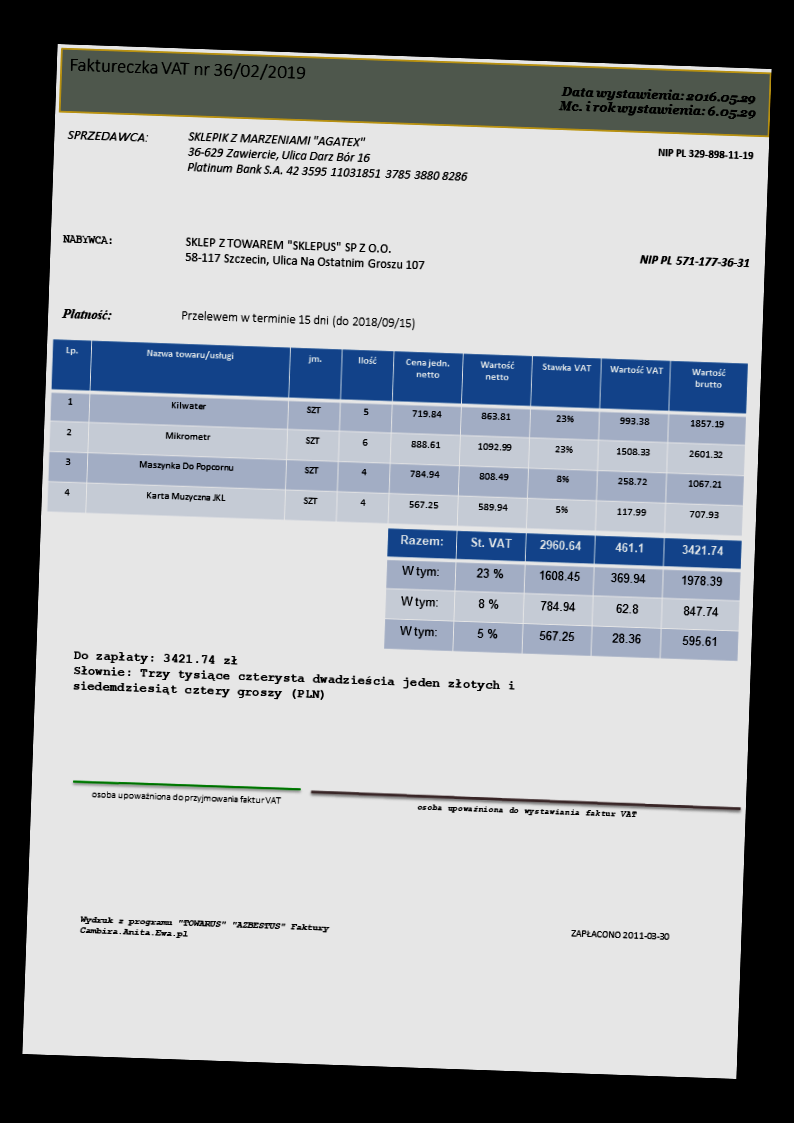Table: (45, 338, 748, 538), (383, 527, 742, 663)
TextBox: (69, 647, 520, 710), (183, 127, 471, 189), (181, 234, 427, 274), (555, 81, 759, 124), (76, 914, 334, 947), (65, 52, 308, 83), (178, 308, 417, 332), (414, 800, 639, 821), (88, 788, 283, 807), (654, 143, 754, 165), (637, 252, 751, 271), (63, 125, 150, 147), (568, 925, 672, 943), (59, 230, 114, 249), (60, 305, 113, 322)
